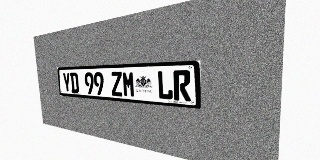9: (93, 72, 104, 95), (84, 72, 95, 94)
D: (70, 72, 79, 93)
L: (157, 70, 173, 100)
M: (122, 71, 135, 97)
R: (173, 70, 191, 101)
Y: (62, 73, 71, 93)
Z: (110, 71, 123, 96)
